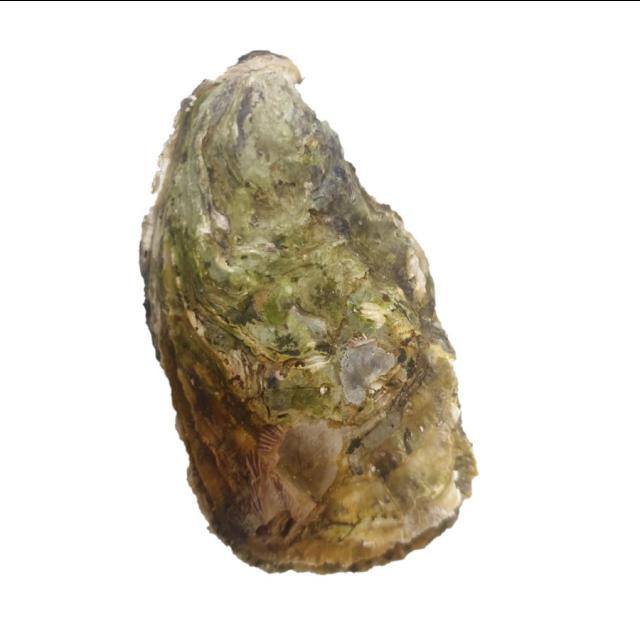Oyster- Indeterminate: (138, 50, 480, 574)
